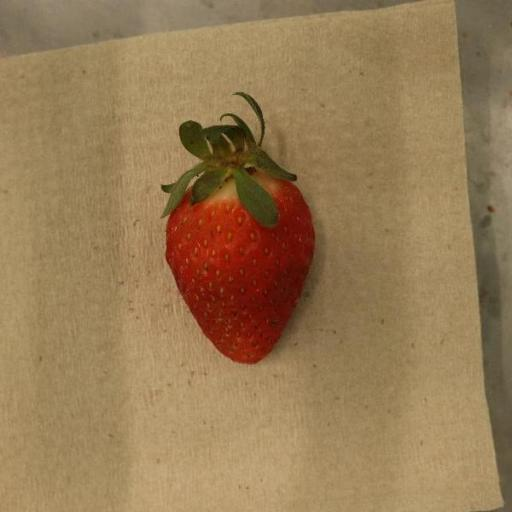Strawberry: (161, 92, 316, 366)
